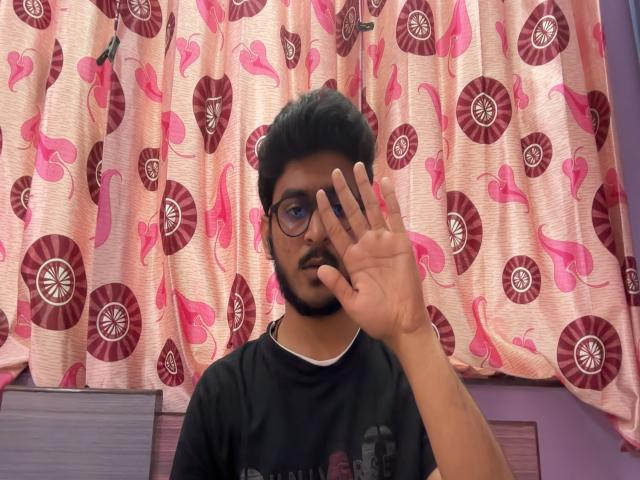Hello: (311, 151, 439, 353)
